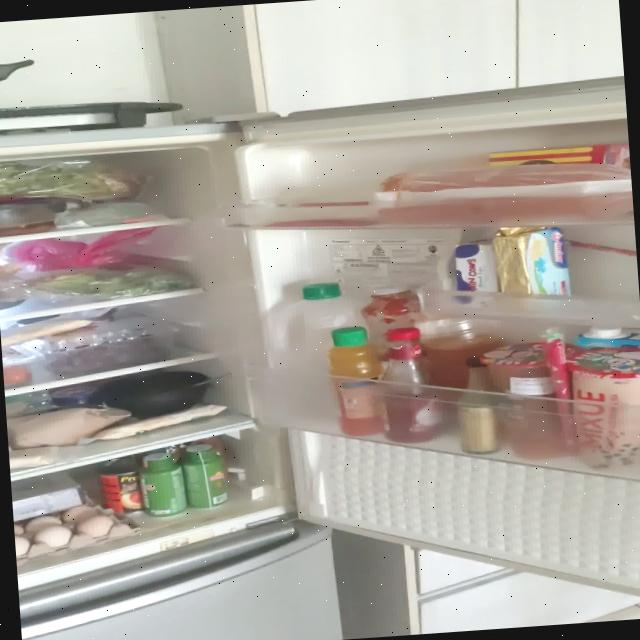egg: (12, 498, 144, 564)
unknown_bag: (0, 225, 164, 273)
